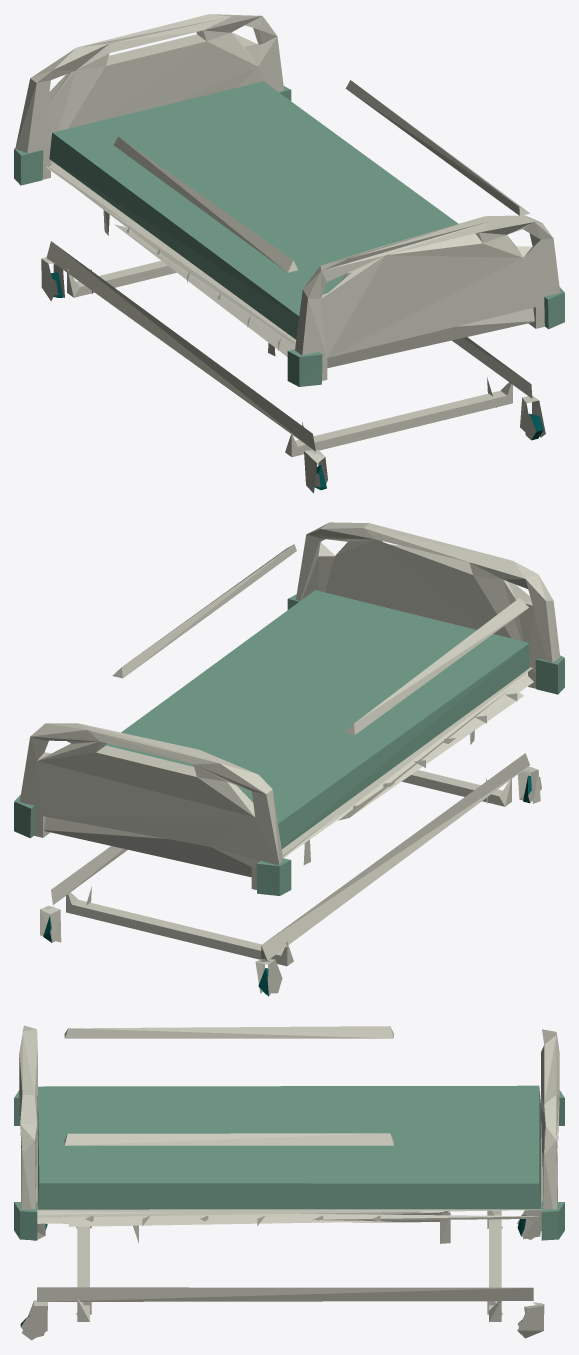
Rendered from hospital-bed-lite.glb.
3 views of the same model, one above another, from view 1: azimuth 30°, elevation 25°; view 2: azimuth 150°, elevation 25°; view 3: azimuth 270°, elevation 25° (orthographic). The views are drawn at different scales.
Visible parts, largest first — view 1: Plane_Material_0; view 2: Plane_Material_0; view 3: Plane_Material_0.
Boxes of the visible parts, x1,y1,x2,y2 form: Plane_Material_0: (14, 14, 564, 493); Plane_Material_0: (14, 522, 564, 996); Plane_Material_0: (14, 1025, 564, 1340).
Size of the model in its own units: 8.8 by 7.31 by 16.43.
